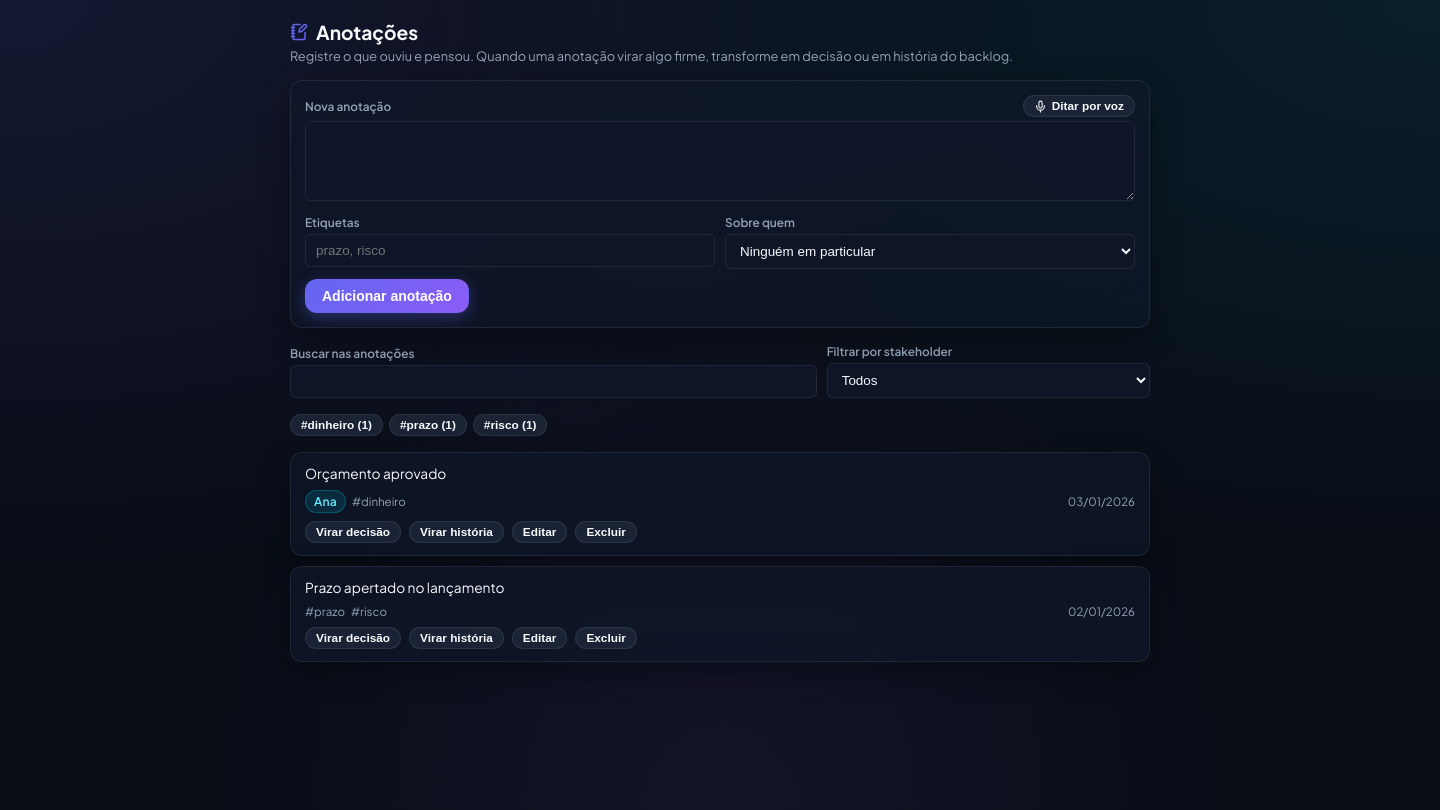
Scenario: NotesView: lista e busca › a busca ignora maiúsculas e acentos e avisa quando nada combina
Type "ORCAMENTO" into the search field labelled "Buscar nas anotações".
click(553, 382); type("ORCAMENTO")  # box [290,365,817,398]
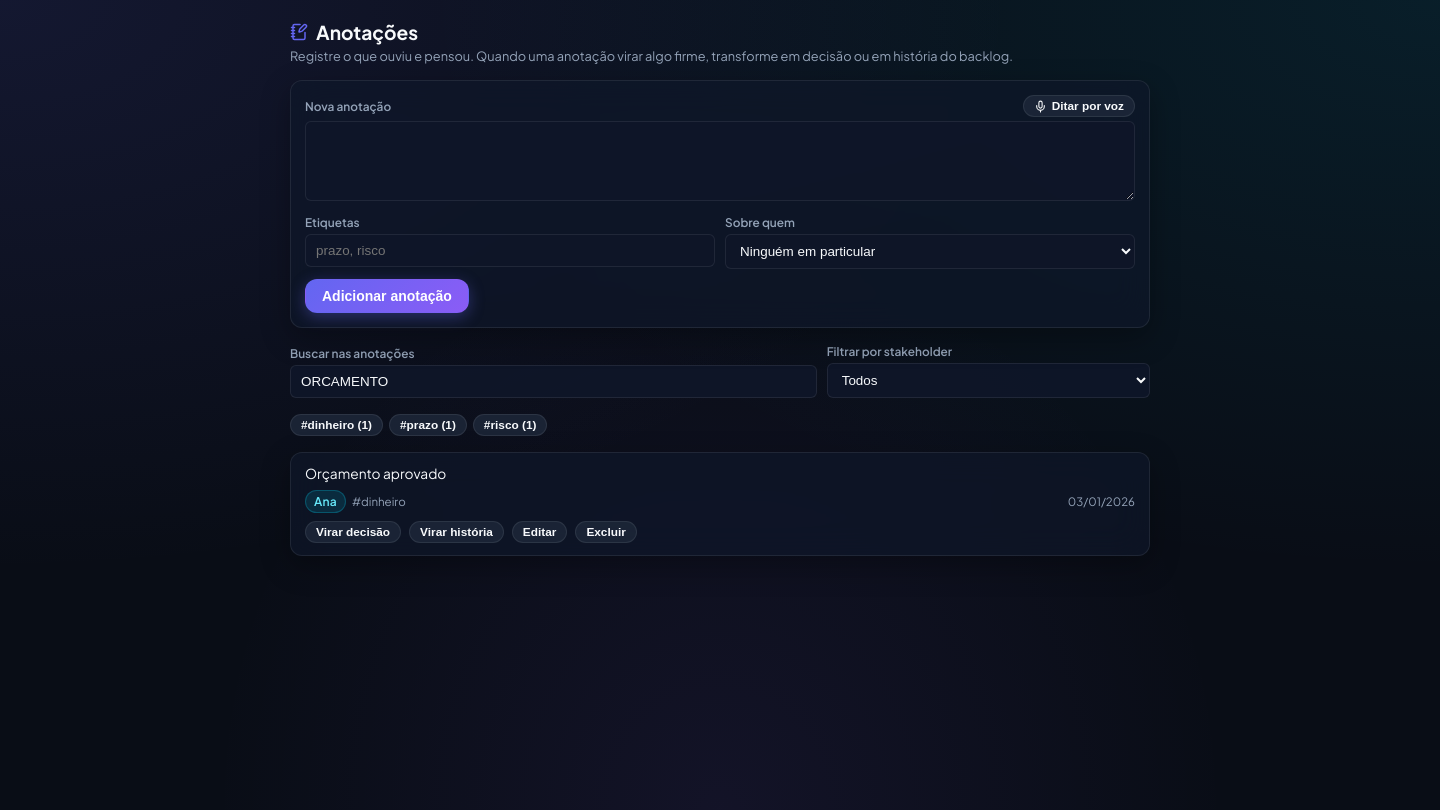
Replace the text in the search field labelled "Buscar nas anotações" with "zzz" at point(553, 382), box [290,365,817,398]
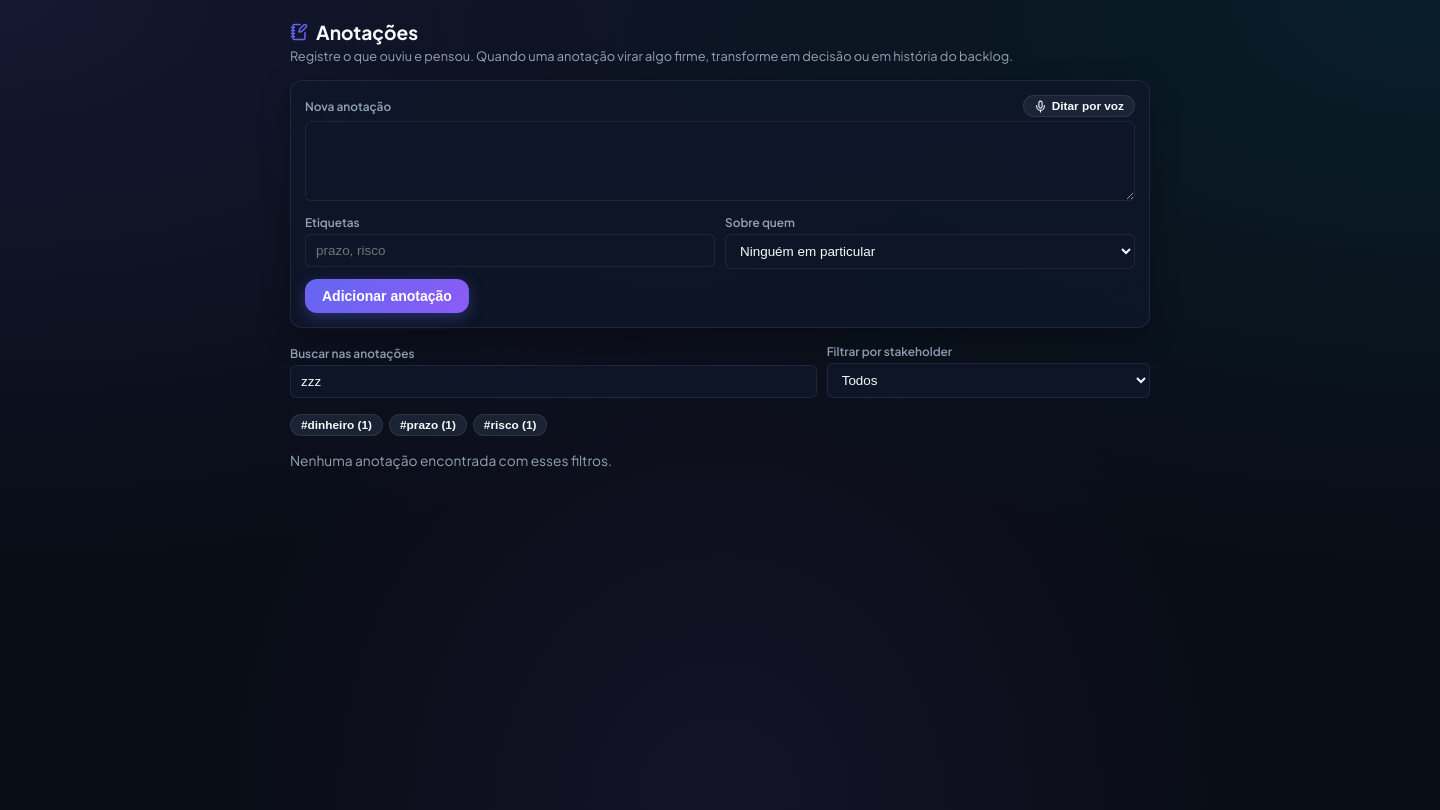
Expected: the text "Nenhuma anotação encontrada com esses filtros." is shown, [290,452,612,469]
